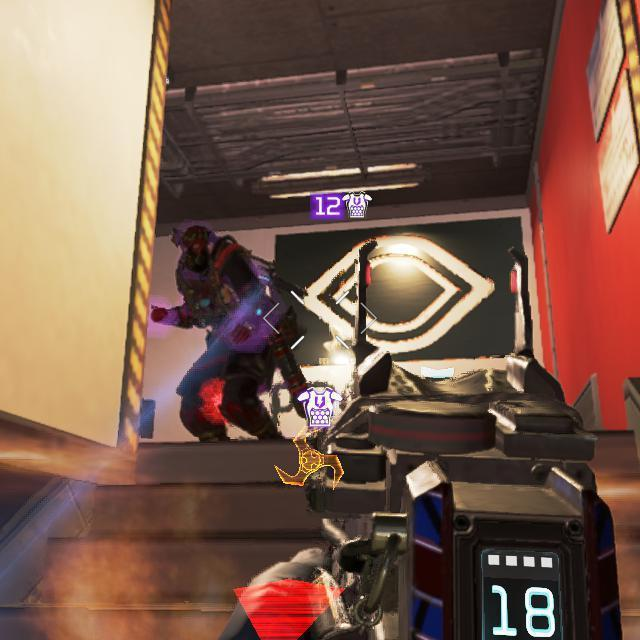avatar: (169, 223, 310, 438)
